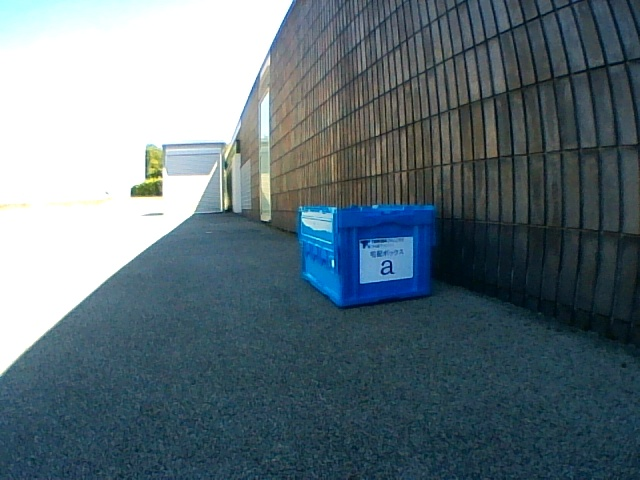blue_box: (298, 205, 435, 307)
tag_a: (366, 241, 407, 277)
